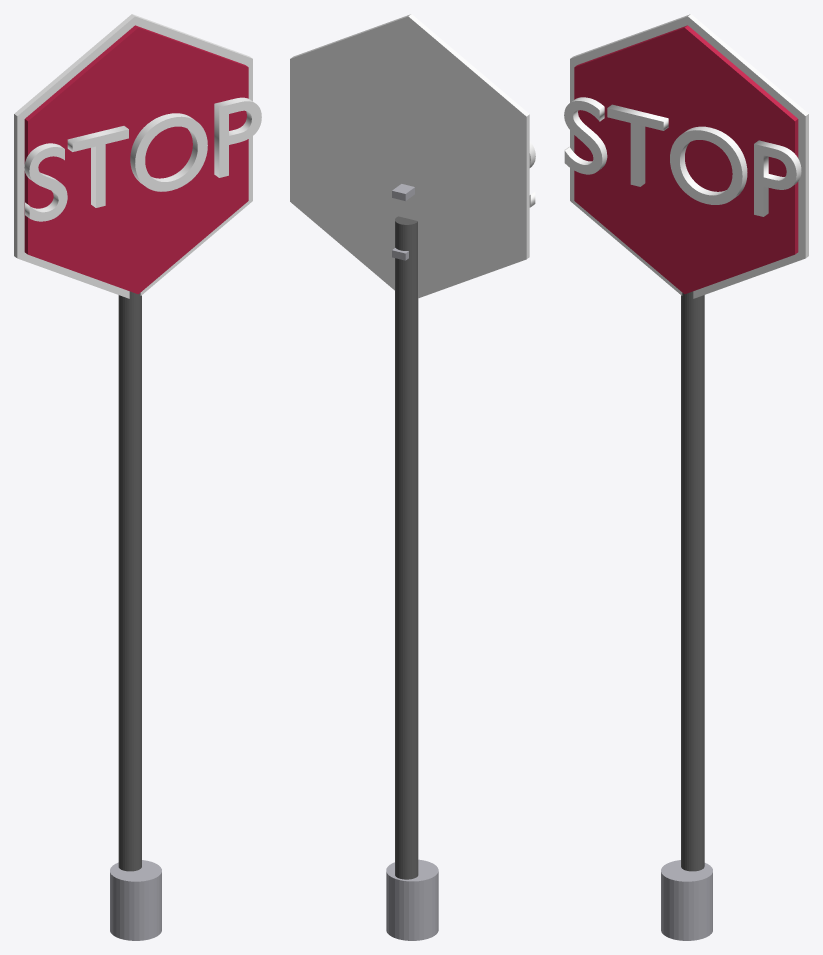
The picture shows the model from 3 angles, left to right: view 1: azimuth 30°, elevation 25°; view 2: azimuth 150°, elevation 25°; view 3: azimuth 330°, elevation 25°; orthographic projection.
Visible parts, largest first — view 1: object 4, object 1; view 2: object 4, object 1; view 3: object 4, object 1.
Boxes of the visible parts, x1,y1,x2,y2 form: object 4: (14, 14, 261, 298); object 1: (110, 291, 161, 940); object 4: (290, 14, 535, 298); object 1: (386, 216, 438, 940); object 4: (564, 14, 808, 298); object 1: (661, 291, 712, 940).
Size of the model in its own units: 0.8315 by 3.08 by 0.163.
